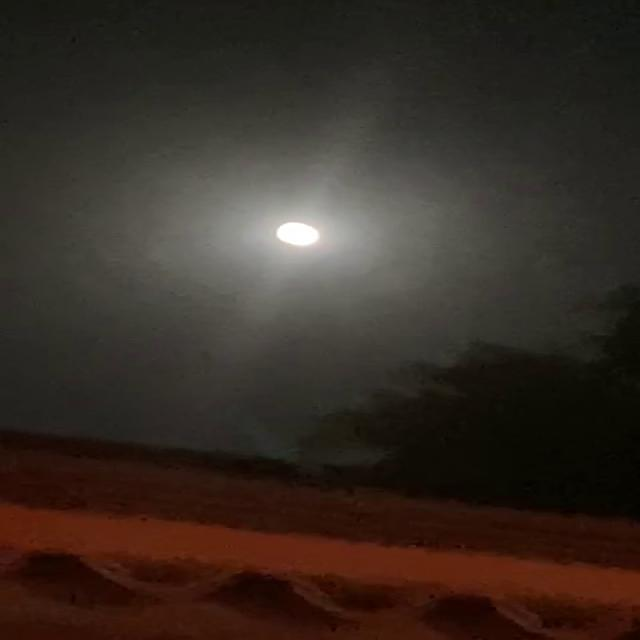moon: (306, 258, 366, 298)
